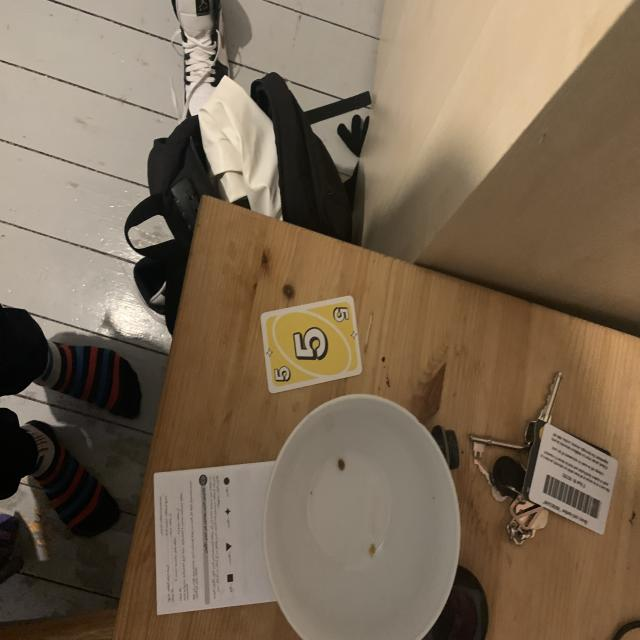lyellow-5: (326, 304, 351, 327)
